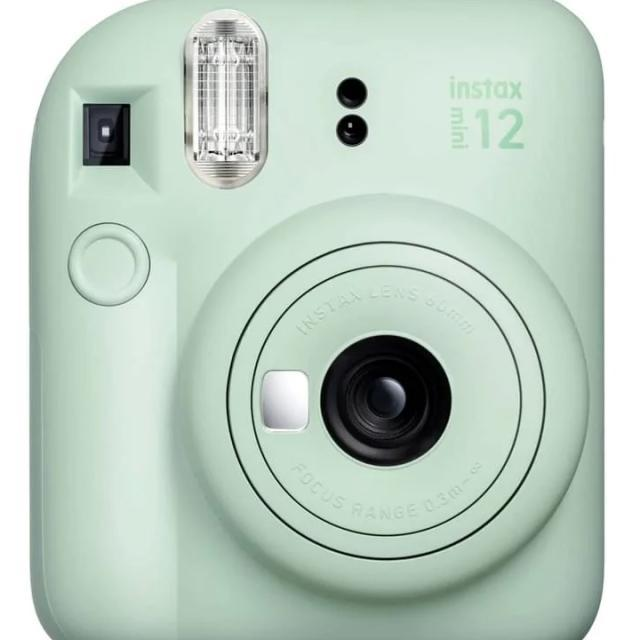hidden camera: (326, 334, 451, 471)
